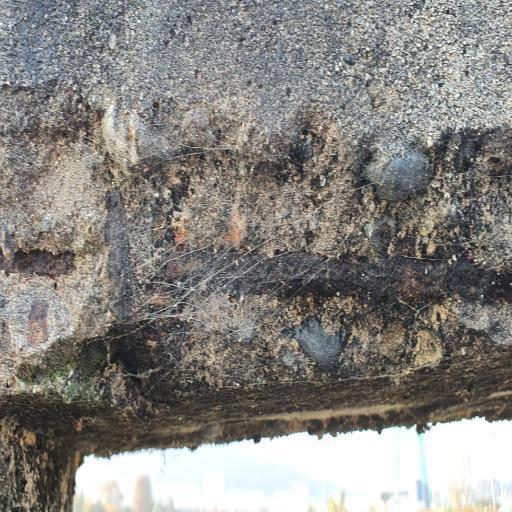exposed_rebar: (181, 251, 512, 306), (104, 185, 140, 373)
spalling: (0, 89, 512, 404)
